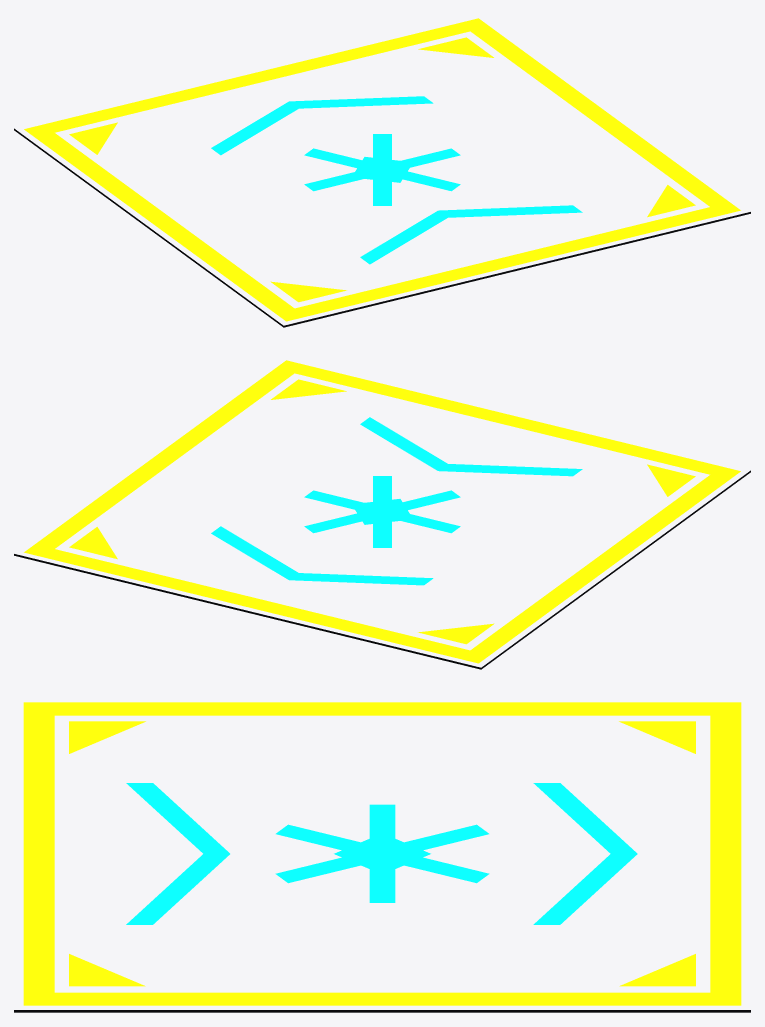
The model's file is OVL_Arena_Warn_Ice.glb.
3 views of the same model, one above another, from view 1: azimuth 30°, elevation 25°; view 2: azimuth 150°, elevation 25°; view 3: azimuth 270°, elevation 25° (orthographic). The views are drawn at different scales.
Visible parts, largest first — view 1: OVL_WarnIce_AmberBorder, OVL_WarnIce_PreviewChevrons, OVL_WarnIce_PreviewSnowflake, OVL_Carrier_WarnIce; view 2: OVL_WarnIce_AmberBorder, OVL_WarnIce_PreviewChevrons, OVL_WarnIce_PreviewSnowflake, OVL_Carrier_WarnIce; view 3: OVL_WarnIce_AmberBorder, OVL_WarnIce_PreviewChevrons, OVL_WarnIce_PreviewSnowflake, OVL_Carrier_WarnIce.
Boxes of the visible parts, left/top/right/bottom form: OVL_WarnIce_AmberBorder: left=24, top=18, right=740, bottom=321; OVL_WarnIce_PreviewChevrons: left=211, top=96, right=582, bottom=264; OVL_WarnIce_PreviewSnowflake: left=304, top=134, right=460, bottom=205; OVL_Carrier_WarnIce: left=14, top=128, right=750, bottom=327; OVL_WarnIce_AmberBorder: left=24, top=360, right=740, bottom=663; OVL_WarnIce_PreviewChevrons: left=211, top=417, right=582, bottom=585; OVL_WarnIce_PreviewSnowflake: left=304, top=476, right=460, bottom=547; OVL_Carrier_WarnIce: left=14, top=470, right=750, bottom=669; OVL_WarnIce_AmberBorder: left=23, top=702, right=741, bottom=1005; OVL_WarnIce_PreviewChevrons: left=126, top=783, right=637, bottom=924; OVL_WarnIce_PreviewSnowflake: left=275, top=804, right=489, bottom=902; OVL_Carrier_WarnIce: left=14, top=1010, right=750, bottom=1012.
Bounding box in the file's own units: 11.4 × 0.05 × 11.4.
3 materials, 3 textured.
